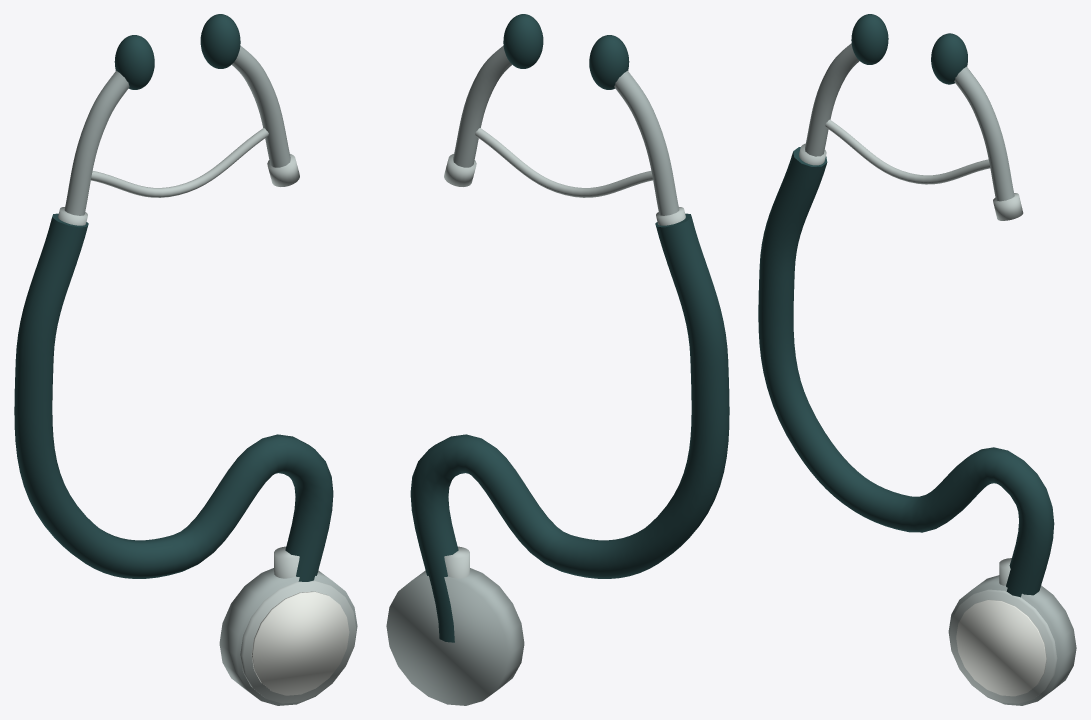
The model's file is stethoscope.glb.
The picture shows the model from 3 angles, left to right: view 1: azimuth 30°, elevation 25°; view 2: azimuth 150°, elevation 25°; view 3: azimuth 330°, elevation 25°; orthographic projection. The views are drawn at different scales.
Parts seen in each view (by area): view 1: FlexibleTubing, Diaphragm.001, ChestPiece, ChestPieceRim, BinauralTube, BinauralTube.001, Spring, EarTip.001, EarTip, BinauralCollar.001, ChestPieceStem; view 2: FlexibleTubing, ChestPiece, BinauralTube, BinauralTube.001, Spring, EarTip.001, EarTip, BinauralCollar.001, ChestPieceStem; view 3: FlexibleTubing, Diaphragm.001, ChestPiece, ChestPieceRim, BinauralTube.001, BinauralTube, Spring, EarTip, EarTip.001, BinauralCollar.001.
Part boxes in pixels (bbox=[...]): FlexibleTubing: bbox=[14, 213, 333, 581]; Diaphragm.001: bbox=[251, 591, 349, 695]; ChestPiece: bbox=[219, 568, 357, 705]; ChestPieceRim: bbox=[240, 580, 356, 703]; BinauralTube: bbox=[64, 70, 129, 215]; BinauralTube.001: bbox=[231, 45, 290, 167]; Spring: bbox=[91, 128, 268, 197]; EarTip.001: bbox=[200, 14, 240, 68]; EarTip: bbox=[114, 35, 154, 89]; BinauralCollar.001: bbox=[267, 154, 299, 186]; ChestPieceStem: bbox=[274, 546, 299, 578]; FlexibleTubing: bbox=[410, 213, 729, 642]; ChestPiece: bbox=[386, 568, 524, 705]; BinauralTube: bbox=[614, 70, 679, 215]; BinauralTube.001: bbox=[453, 45, 512, 167]; Spring: bbox=[475, 128, 652, 197]; EarTip.001: bbox=[503, 14, 543, 68]; EarTip: bbox=[589, 35, 629, 89]; BinauralCollar.001: bbox=[444, 154, 476, 186]; ChestPieceStem: bbox=[444, 546, 469, 578]; FlexibleTubing: bbox=[758, 147, 1054, 597]; Diaphragm.001: bbox=[956, 599, 1046, 696]; ChestPiece: bbox=[948, 575, 1076, 705]; ChestPieceRim: bbox=[949, 589, 1057, 703]; BinauralTube.001: bbox=[954, 66, 1014, 201]; BinauralTube: bbox=[805, 43, 859, 156]; Spring: bbox=[825, 119, 990, 184]; EarTip: bbox=[851, 14, 888, 64]; EarTip.001: bbox=[931, 33, 967, 84]; BinauralCollar.001: bbox=[993, 193, 1023, 220].
Bounding box in the file's own units: 0.9282 × 1.87 × 0.111.
